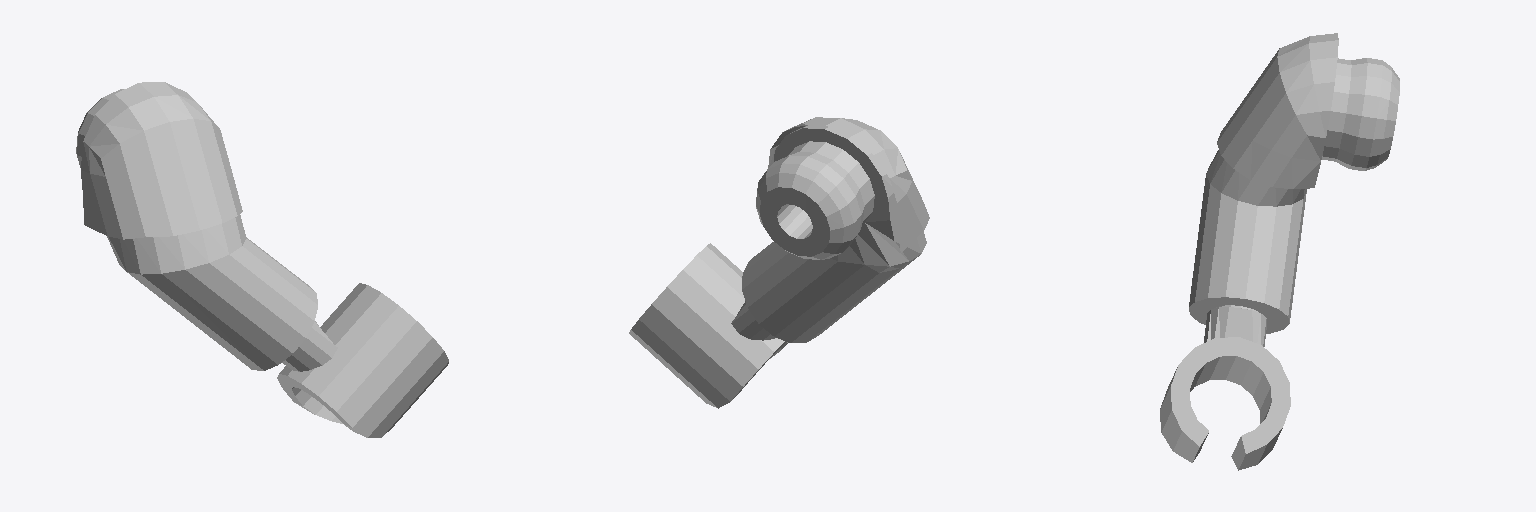
Rendered from rHand.obj.
3 renders of one model, left to right at view 1: azimuth 30°, elevation 25°; view 2: azimuth 150°, elevation 25°; view 3: azimuth 270°, elevation 25°, orthographic.
Parts seen in each view (by area): view 1: pasted__pasted__rhand; view 2: pasted__pasted__rhand; view 3: pasted__pasted__rhand.
Part boxes in pixels (bbox=[...]): pasted__pasted__rhand: bbox=[76, 82, 448, 437]; pasted__pasted__rhand: bbox=[629, 117, 929, 408]; pasted__pasted__rhand: bbox=[1160, 33, 1399, 470].
Size of the model in its own units: 1.37 by 1.49 by 0.9383.